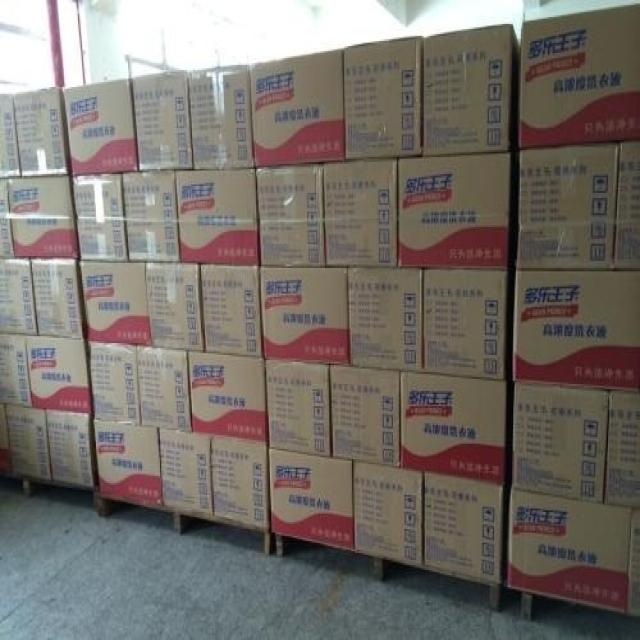box: (517, 3, 640, 150), (509, 138, 640, 271), (509, 486, 634, 613), (513, 268, 640, 389), (397, 152, 513, 268), (421, 22, 520, 157), (397, 374, 507, 485), (244, 49, 346, 167), (508, 386, 609, 503), (419, 270, 512, 379), (346, 36, 421, 162), (260, 265, 351, 364), (268, 451, 353, 553), (422, 476, 500, 587), (323, 157, 401, 268), (174, 167, 259, 268), (344, 268, 424, 370), (188, 352, 268, 447), (64, 79, 140, 176), (255, 166, 325, 268), (330, 367, 403, 464), (188, 65, 255, 169), (260, 357, 330, 454), (352, 463, 422, 560), (77, 259, 152, 346), (131, 70, 193, 174), (92, 416, 163, 503), (8, 174, 79, 259), (198, 266, 262, 357), (13, 87, 73, 176), (120, 172, 180, 261), (26, 336, 93, 415), (211, 437, 268, 527), (145, 265, 205, 350), (137, 345, 192, 433), (86, 341, 141, 427), (76, 171, 128, 261), (31, 259, 86, 340), (44, 410, 99, 490), (161, 432, 214, 515), (603, 391, 640, 509), (5, 403, 51, 481), (0, 256, 38, 336), (0, 331, 33, 406), (0, 94, 22, 176), (626, 507, 640, 616), (0, 177, 15, 258), (0, 401, 14, 474)
